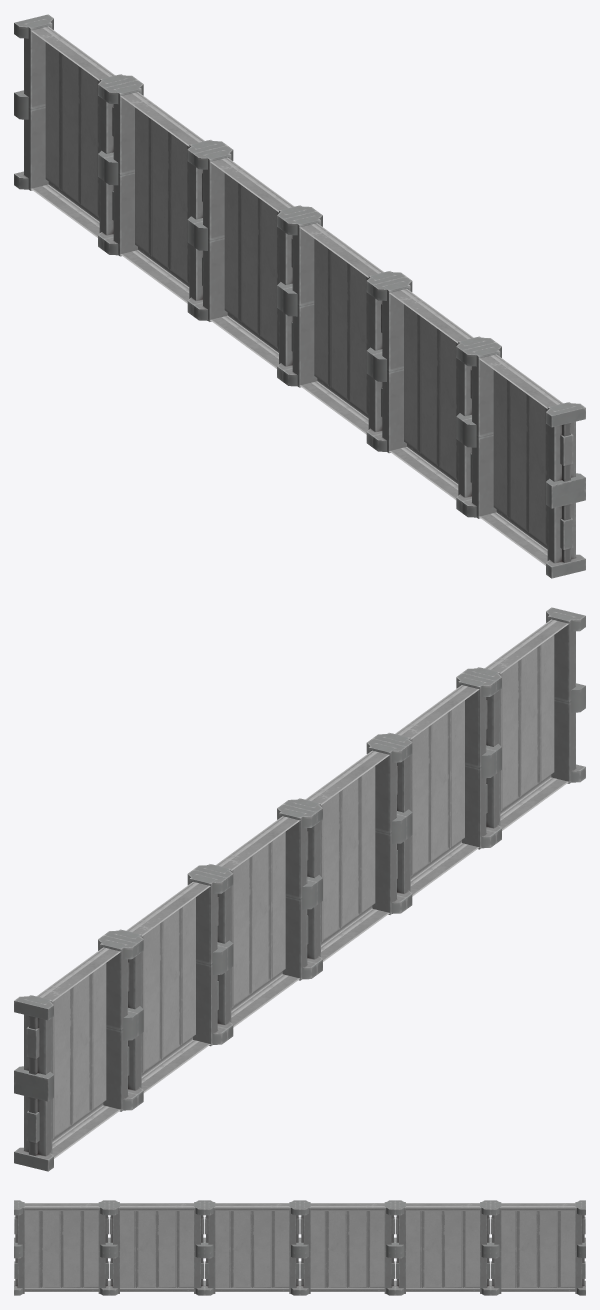
File: Pfb_JALB_WallPart2_Line__7.fbx
3 renders of one model, top to bottom at view 1: azimuth 30°, elevation 25°; view 2: azimuth 150°, elevation 25°; view 3: azimuth 270°, elevation 25°, orthographic. The views are drawn at different scales.
Parts seen in each view (by area): view 1: MAT_Roof; view 2: MAT_Roof; view 3: MAT_Roof.
Part boxes in pixels (left/top/right/bottom): MAT_Roof: left=14, top=14, right=585, bottom=578; MAT_Roof: left=14, top=607, right=585, bottom=1171; MAT_Roof: left=14, top=1200, right=585, bottom=1295.
Bounding box in the file's own units: 0.8873 × 4 × 24.
Materials: 1 (1 with a texture image).
